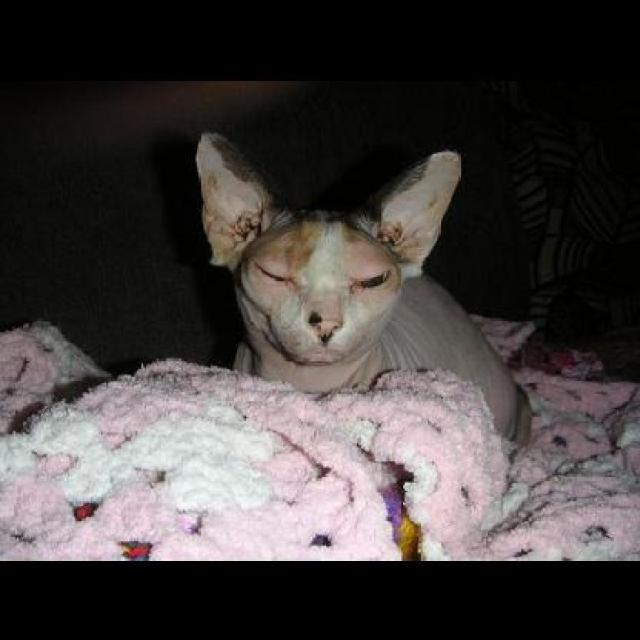unauthorized: (194, 129, 532, 451)
